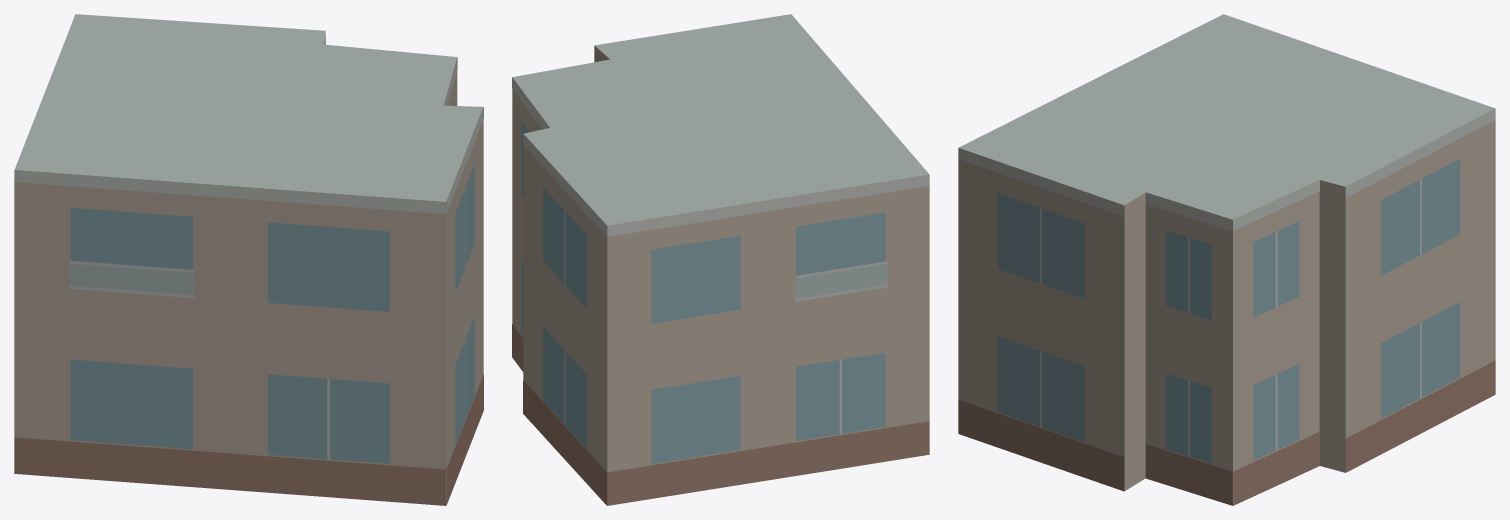
Rendered from survey-upis-33027546.glb.
The picture shows the model from 3 angles, left to right: view 1: azimuth 30°, elevation 25°; view 2: azimuth 150°, elevation 25°; view 3: azimuth 270°, elevation 25°; orthographic projection. The views are drawn at different scales.
Parts seen in each view (by area): view 1: survey-upis-33027546.tmp; view 2: survey-upis-33027546.tmp; view 3: survey-upis-33027546.tmp.
Part boxes in pixels (x1,y1,x2,y2): survey-upis-33027546.tmp: [14, 14, 483, 505]; survey-upis-33027546.tmp: [512, 14, 929, 505]; survey-upis-33027546.tmp: [958, 14, 1495, 505].
Bounding box in the file's own units: 9.42 × 6.1 × 10.39.
